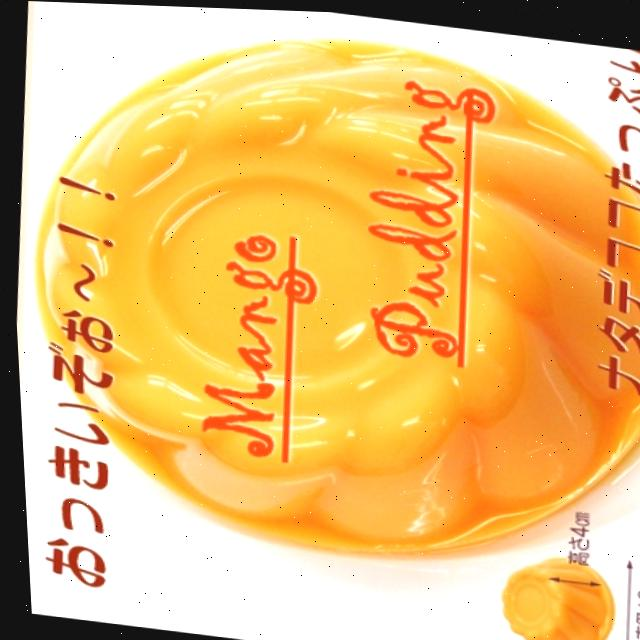蔬菜料理: (303, 39, 640, 353)
